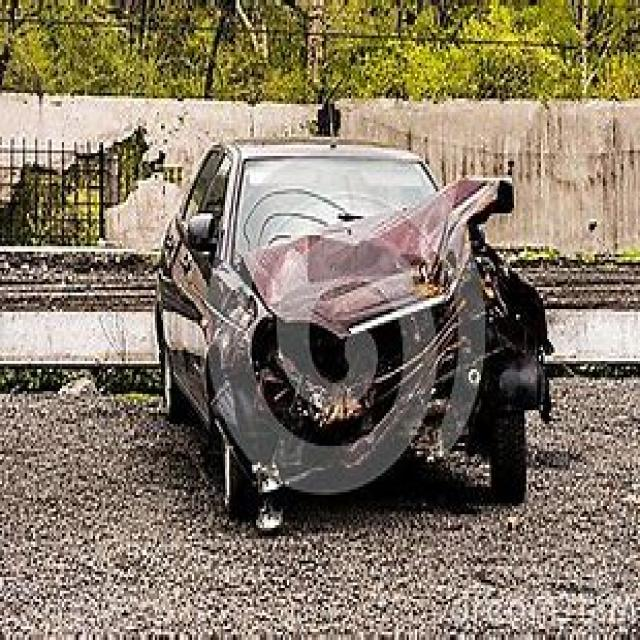Accident: (123, 108, 529, 489)
